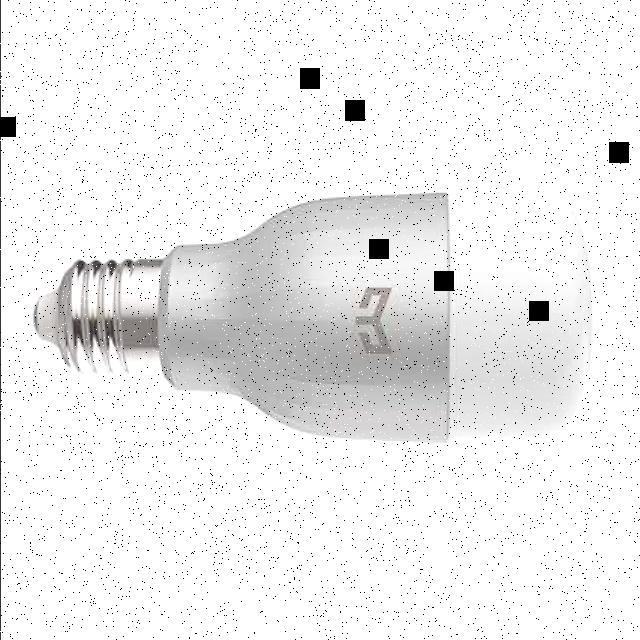light_bulb: (32, 181, 594, 451)
